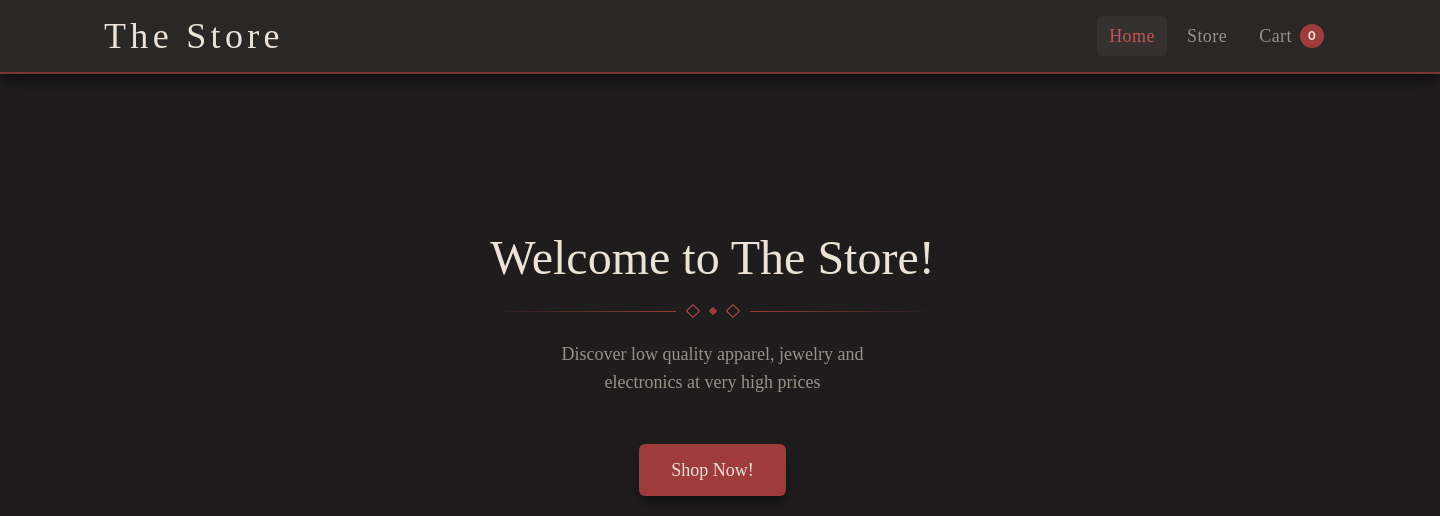
Scenario: PageHeader Component › Navigation to cart
Step 1. Click the link "Cart 0" → {"x": 1292, "y": 36}, box [1259,24,1324,48]
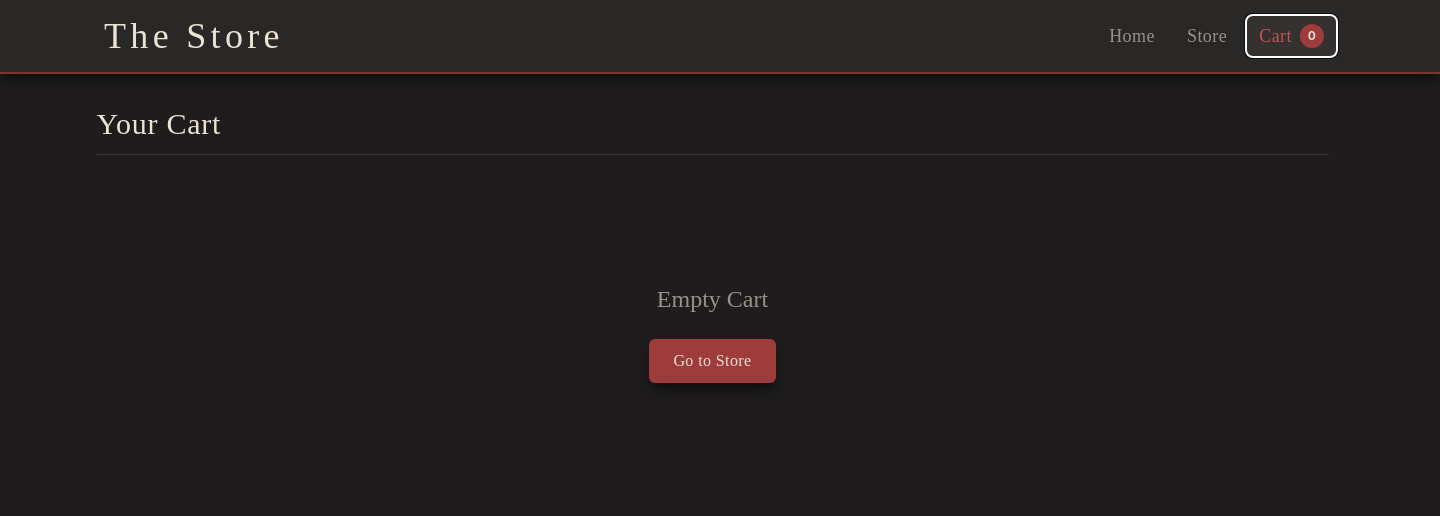
Result: the element with test id "cart-page" is shown
